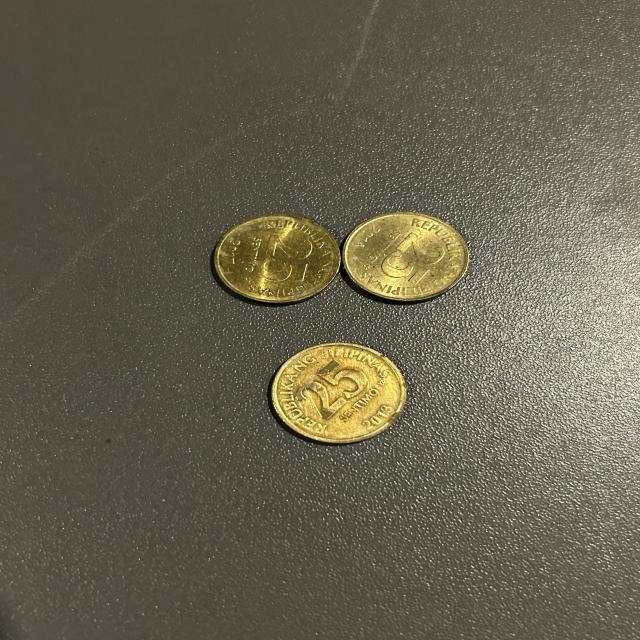25Cent_Old_Front: (272, 340, 406, 448), (212, 210, 344, 306), (344, 212, 468, 303)
